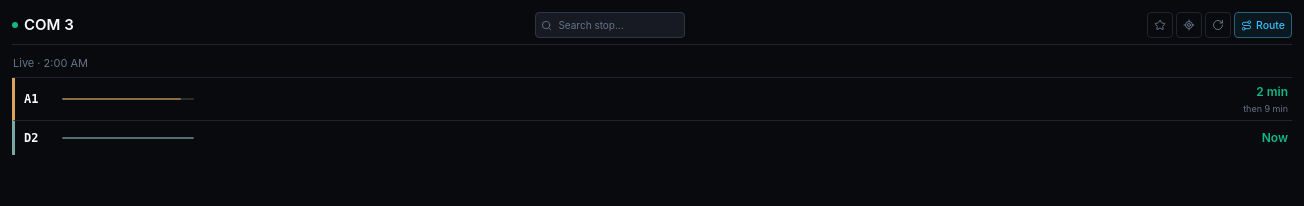
CampusBusModule › shows favourite stops directly in the chips list
Expected: the text "A1" is shown, x1=24 y1=92 x2=38 y2=106
Step 1. Click the button named "Add to favourites" → click(1160, 25), box x1=1147 y1=12 x2=1173 y2=38
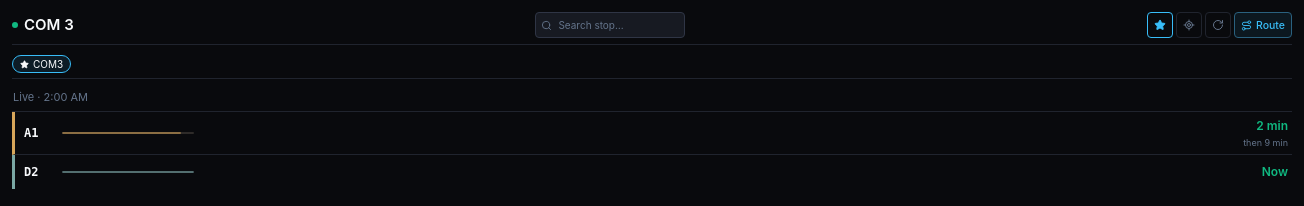
Now the button named "Remove from favourites" is shown, box x1=1147 y1=12 x2=1173 y2=38
